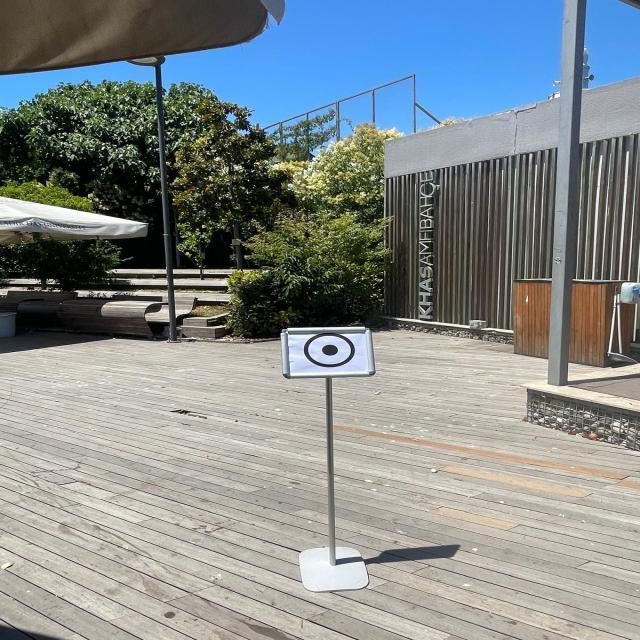Target: (272, 320, 386, 382)
inner: (318, 338, 344, 362)
